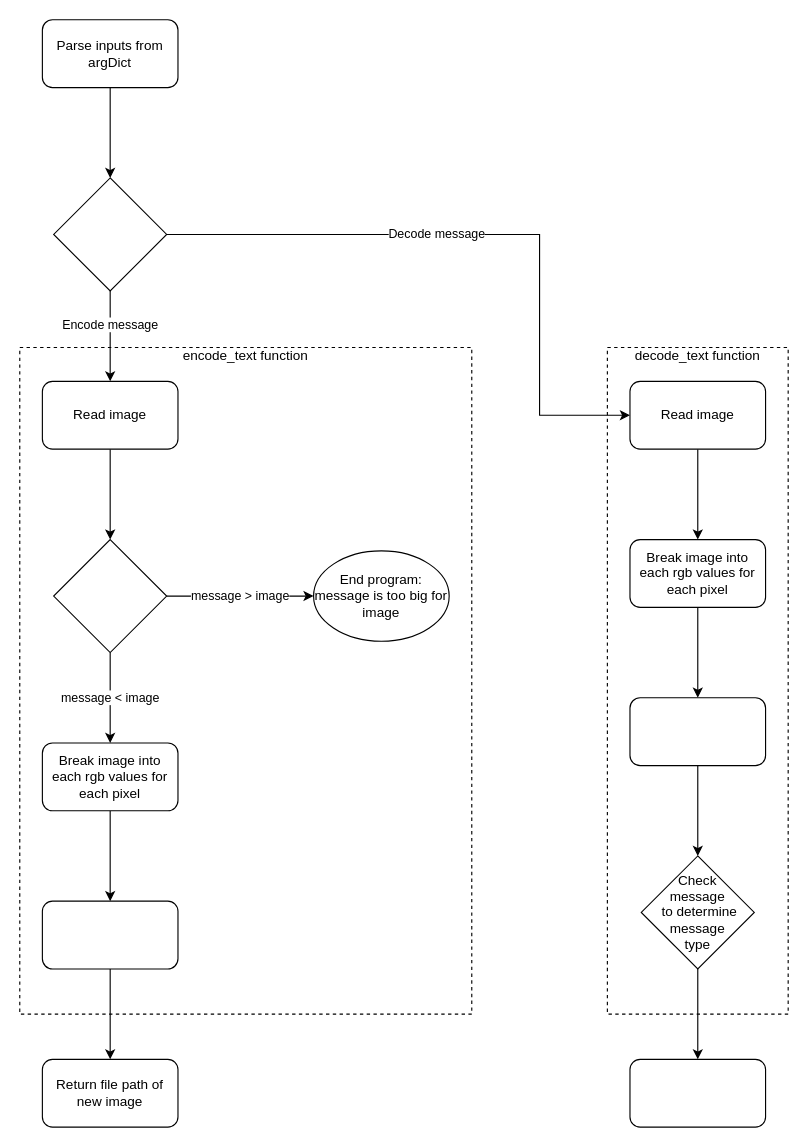
This 808x1147 diagram has some shape labels left out. Here are the shapes that lost their labels. From the top down, the centre of each, then its label:
At point 110,234: "if mode is encode or decode".
At point 110,595: "Check message/image size".
At point 697,731: "Write each LSB into string".
At point 109,934: "Write to new image and return it".
At point 697,1092: "Return message and message type".
